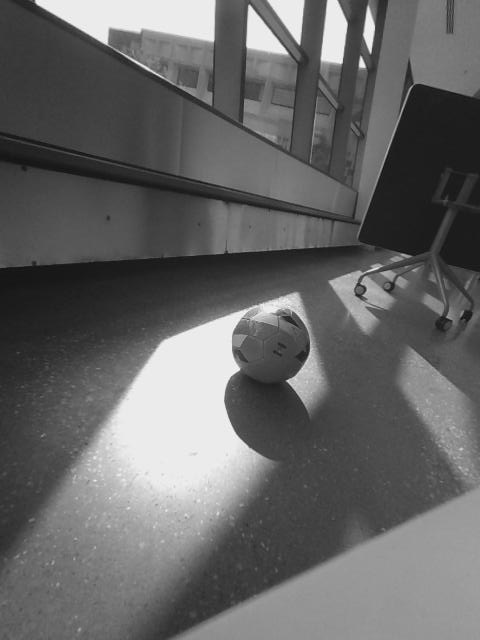ball: (230, 300, 312, 384)
